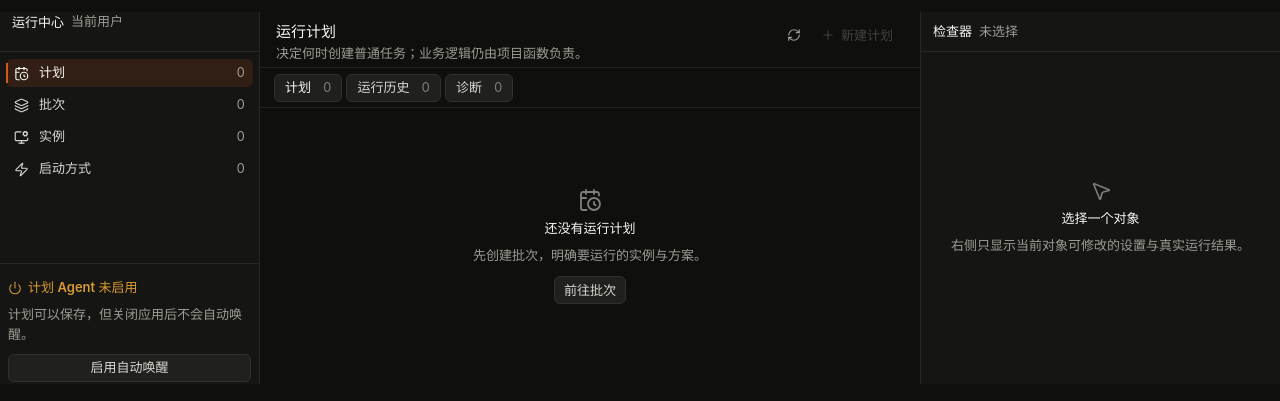
Test: VNextScheduleWorkspace › keeps plans, reusable batches and installed instances as separate navigation
This screenshot has width=1280, height=401.
Click the button "批次 0": (130, 105) [6,91,253,119]
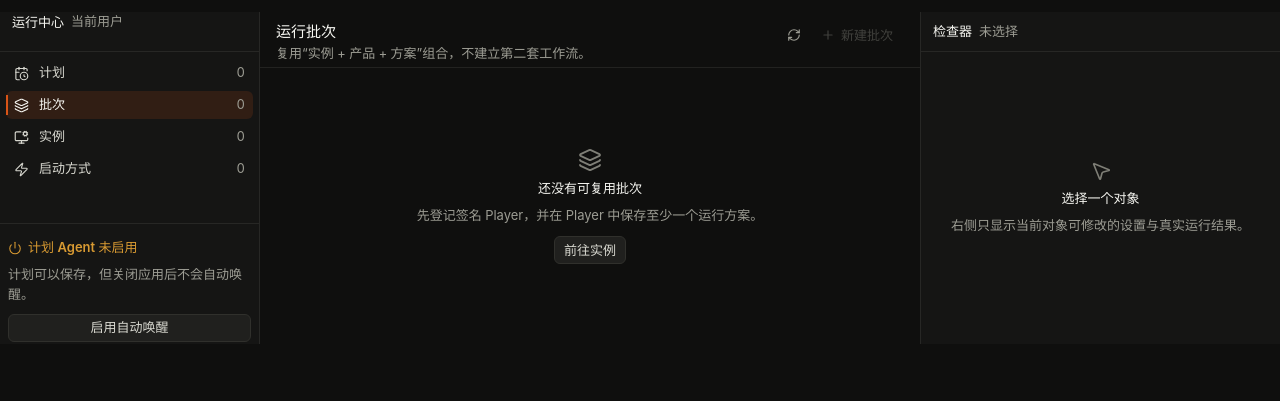
expect the text "还没有可复用批次" is shown: met, box [538,179,642,198]
Click the button "实例 0": (130, 137) [6,123,253,151]
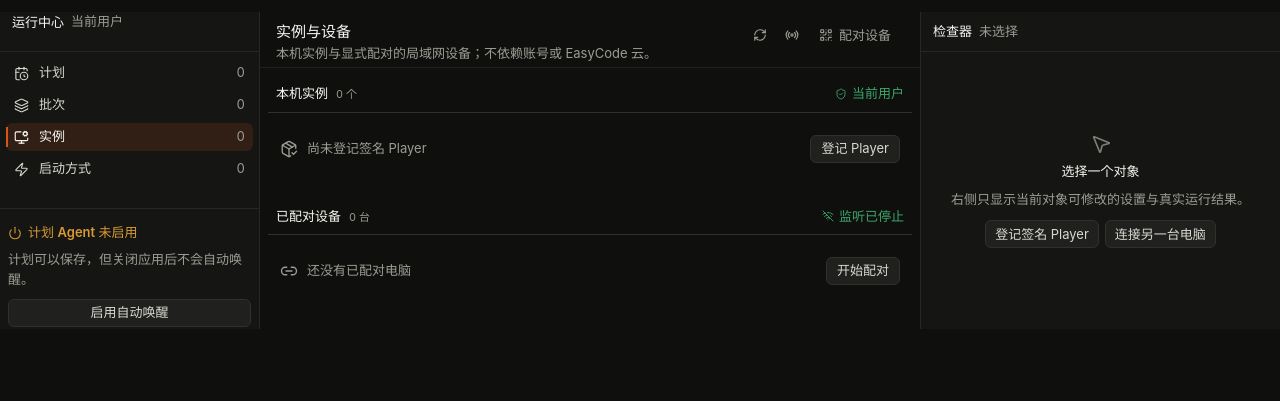
expect the text "尚未登记签名 Player" is shown: met, box [307,140,427,156]
